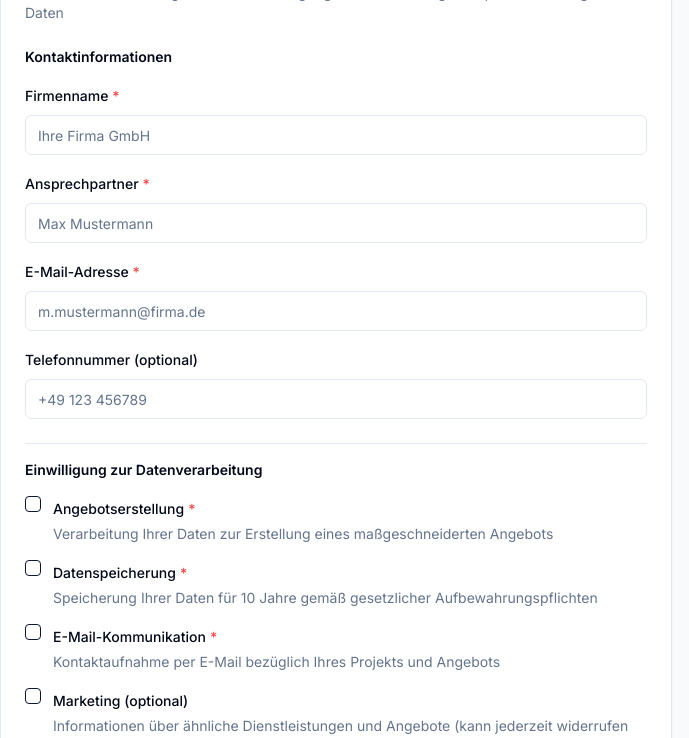
Test: ConsentForm › Form Validation › validates required contact person
This screenshot has width=689, height=738.
In the field labelled "Firmenname *": (336, 135) [25, 115, 647, 155], type "Test GmbH"
Click the checkbox next to "Angebotserstellung": (33, 504) [25, 496, 41, 512]
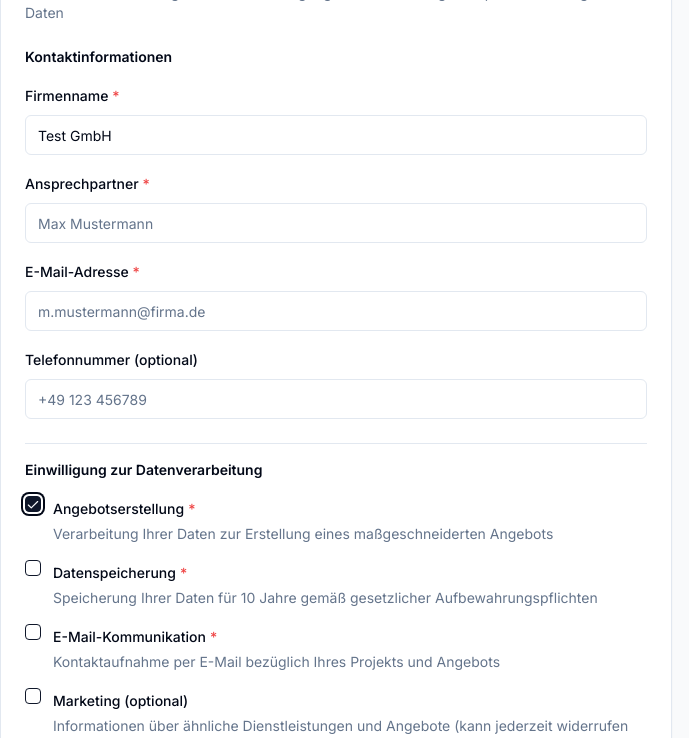
Click the checkbox next to "Datenspeicherung": (33, 568) [25, 560, 41, 576]
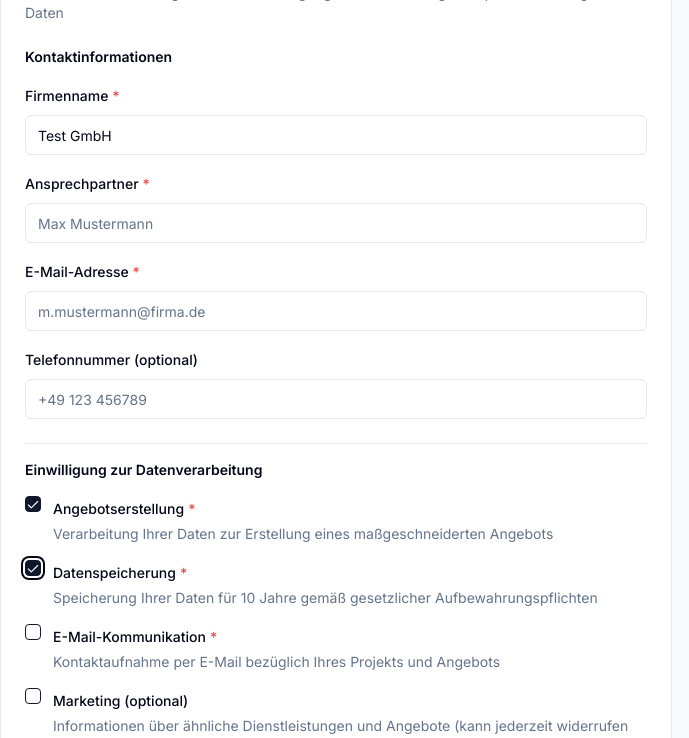
Click the checkbox next to "E-Mail-Kommunikation": (33, 632) [25, 624, 41, 640]
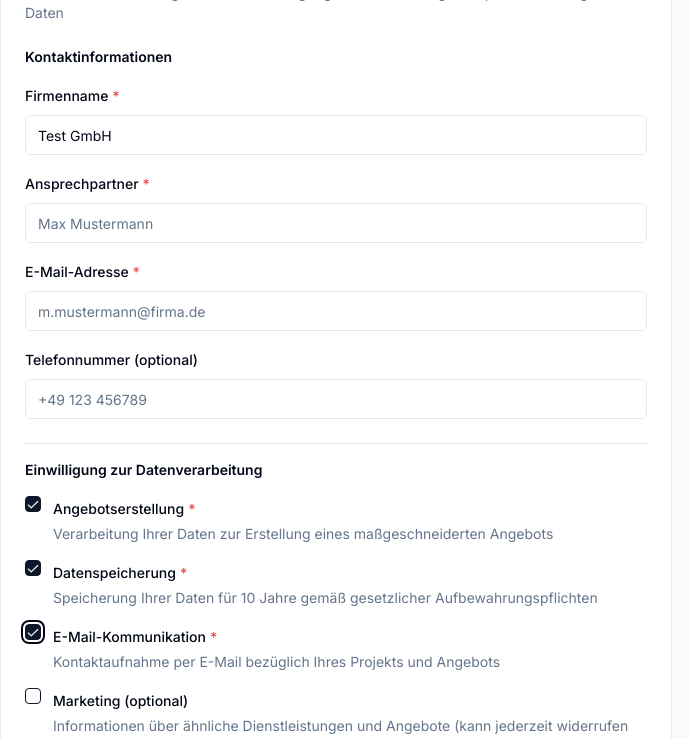
Click the checkbox next to "Marketing (optional)": (33, 696) [25, 688, 41, 704]
(page scrolled)
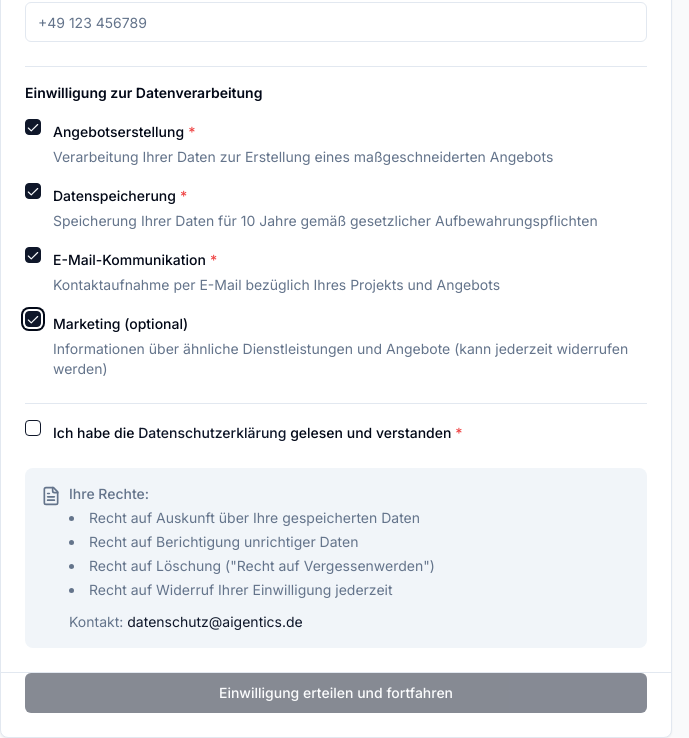
Click the checkbox next to "Ich habe die": (33, 428) [25, 420, 41, 436]
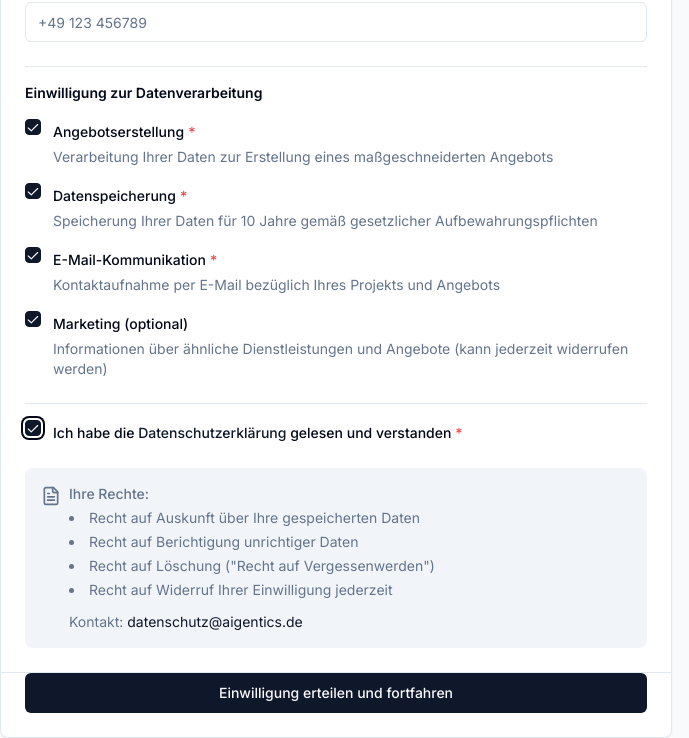
Click the button "Einwilligung erteilen und fortfahren": (336, 693) [25, 673, 647, 713]
(page scrolled)
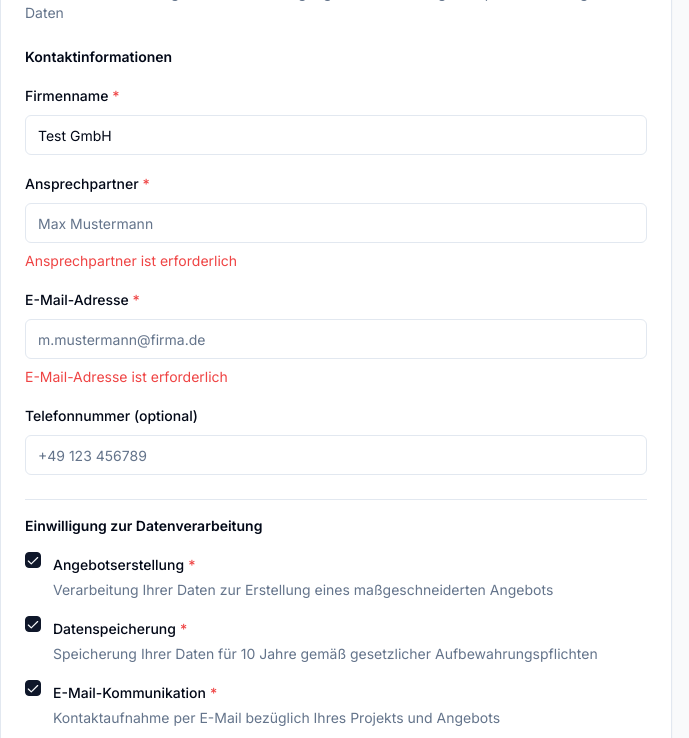
Expected: the text "Ansprechpartner ist erforderlich" is shown, [25, 252, 237, 269]
